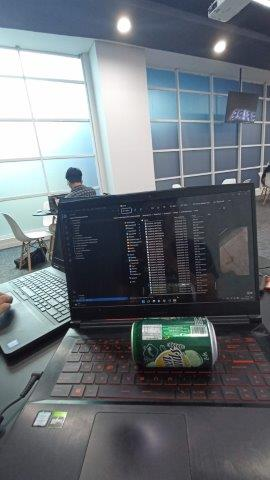kaleng: (131, 315, 217, 369)
